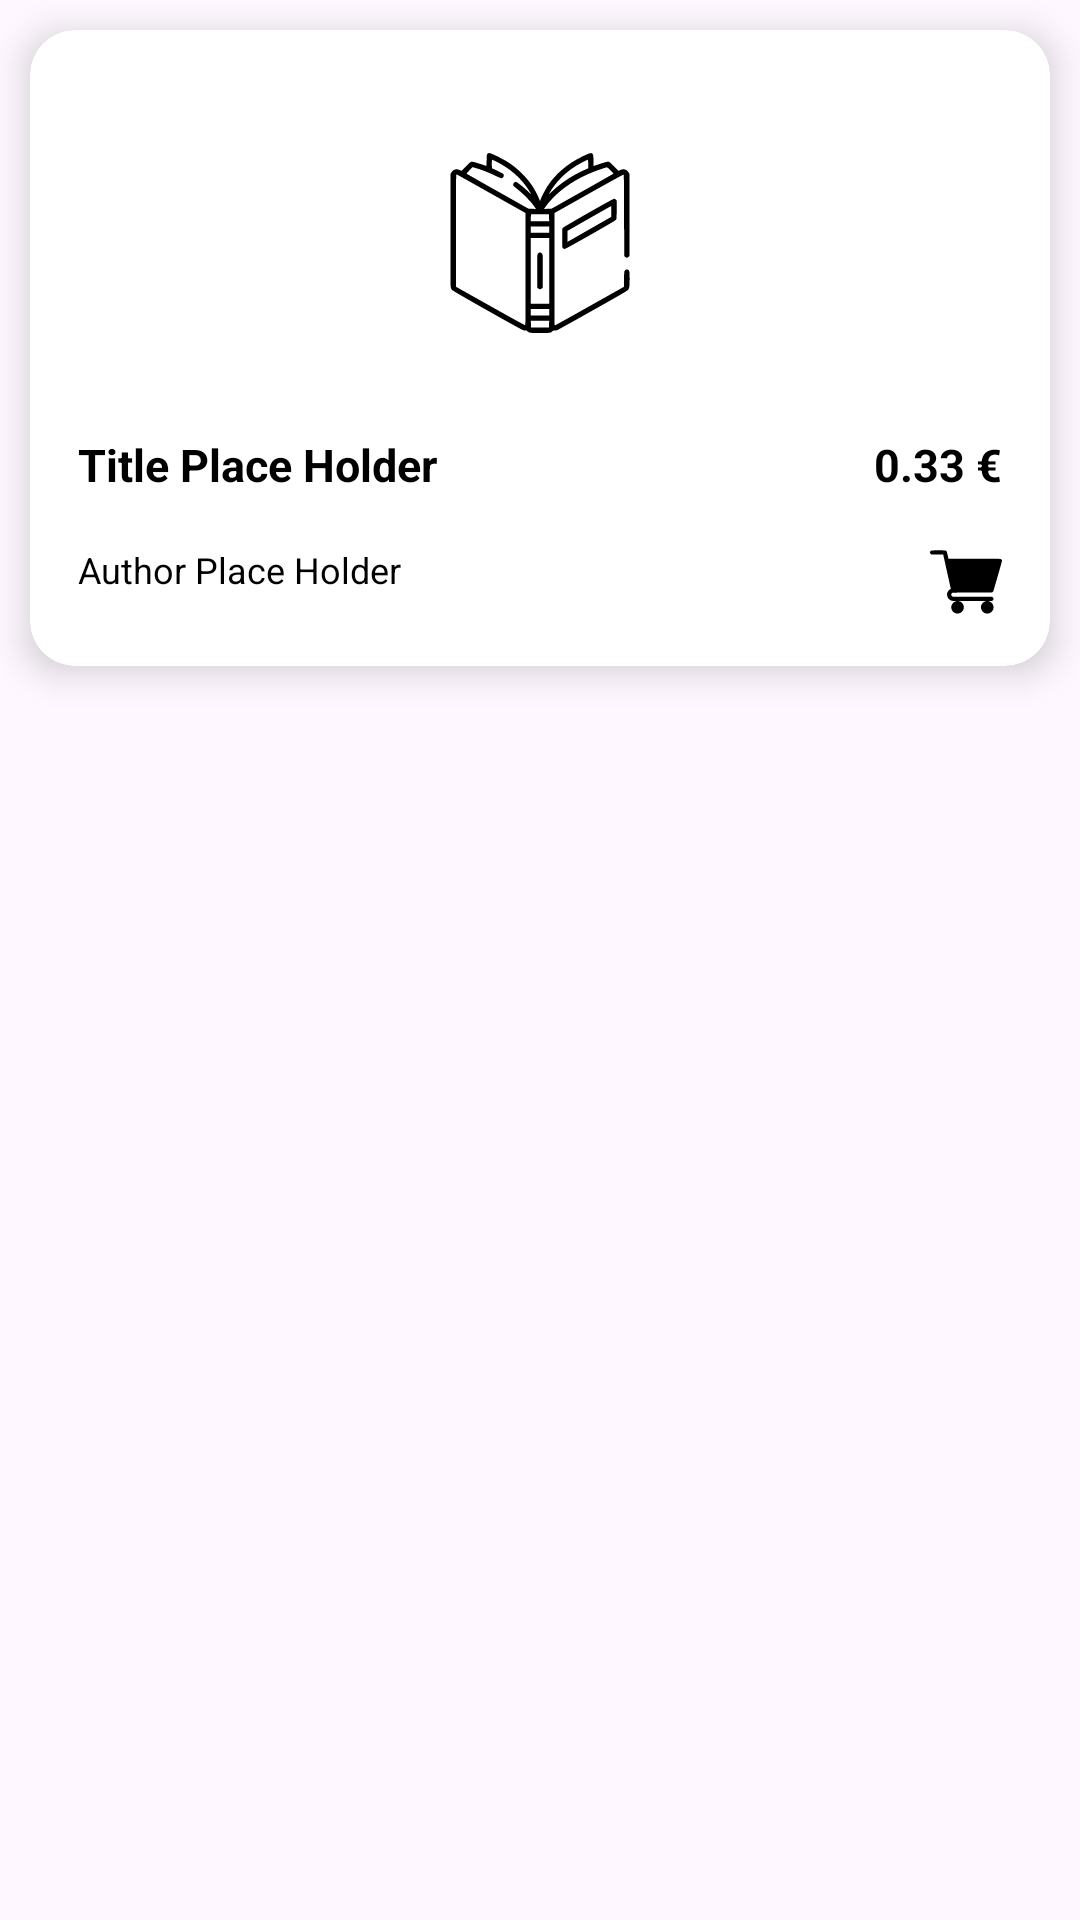

Icon bounding boxes for this 1080x1920 phone screenshot, format region(x1, y1, x2, y2):
Img cesta: region(930, 550, 1002, 614)
